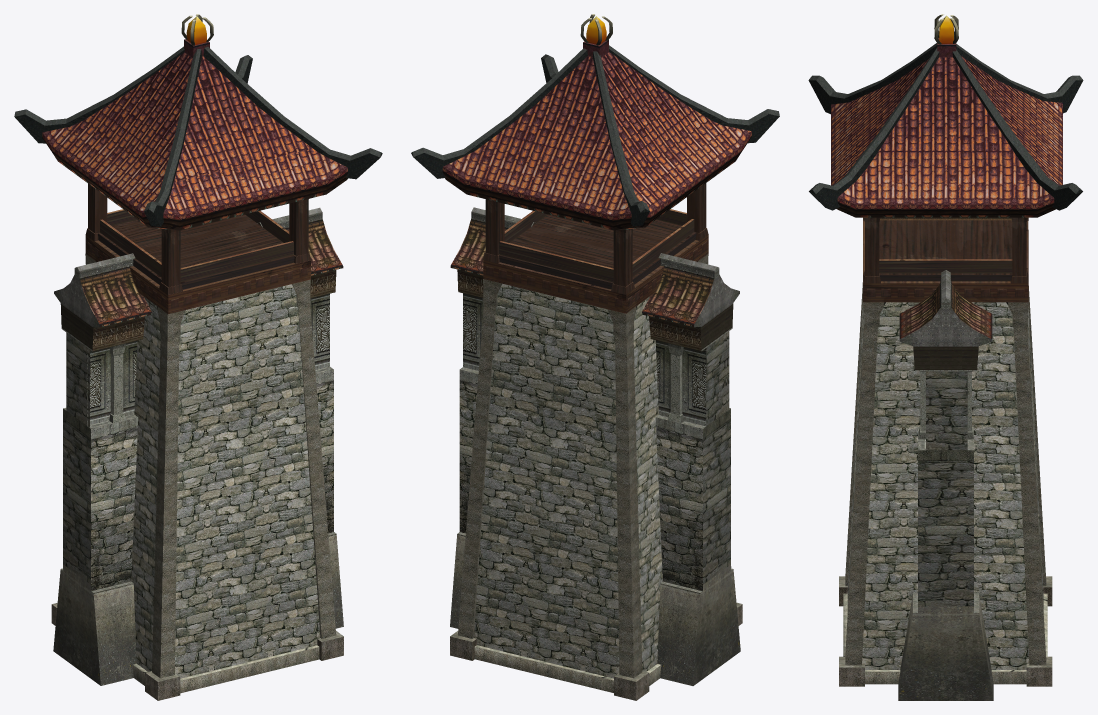
Rendered from a1-middledam-07.fbx.
3 views of the same model, side by side, from view 1: azimuth 30°, elevation 25°; view 2: azimuth 150°, elevation 25°; view 3: azimuth 270°, elevation 25° (orthographic).
Parts seen in each view (by area): view 1: b1-middledam-07-02; view 2: b1-middledam-07-02; view 3: b1-middledam-07-02.
Part boxes in pixels (x1=…): b1-middledam-07-02: x1=14, y1=14, x2=382, y2=700; b1-middledam-07-02: x1=411, y1=14, x2=779, y2=700; b1-middledam-07-02: x1=808, y1=14, x2=1083, y2=700.
Size of the model in its own units: 5.02 by 12.29 by 4.9.
